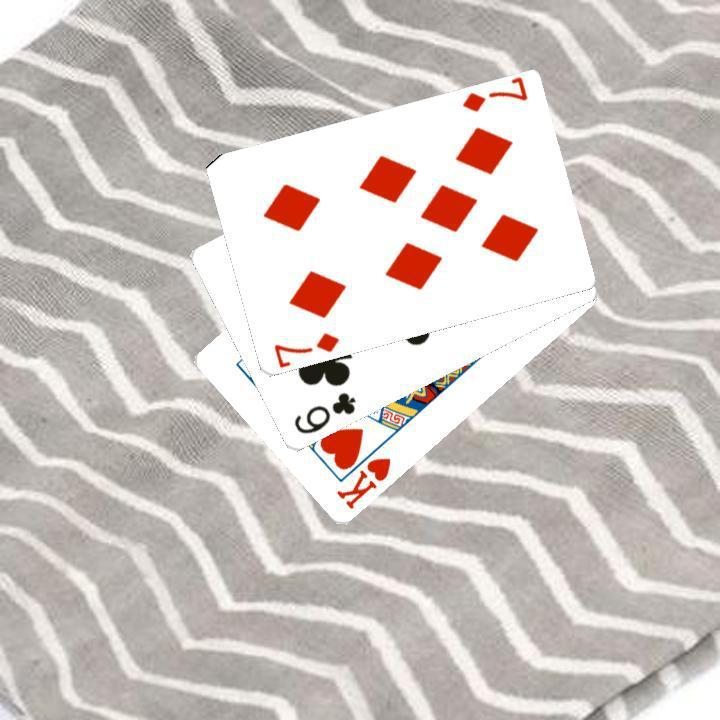6: (289, 388, 358, 437)
7: (269, 329, 341, 368), (457, 76, 529, 115)
K: (332, 453, 393, 512)
